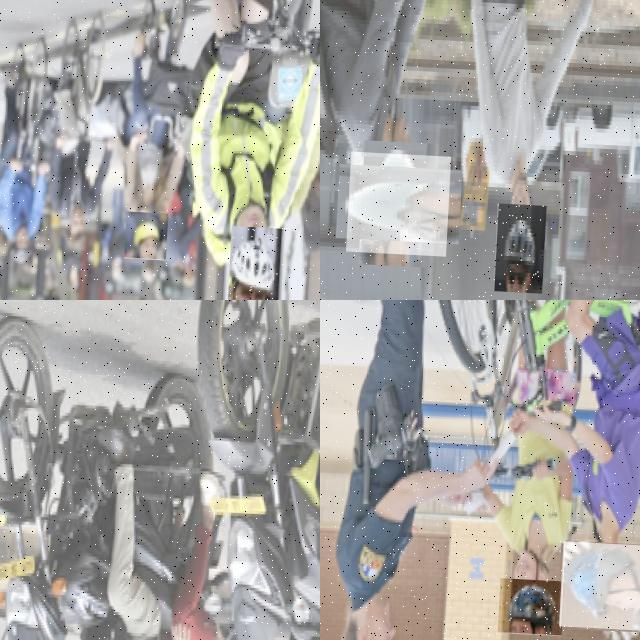helmet: (345, 150, 450, 256), (558, 540, 640, 629), (492, 202, 546, 292), (226, 224, 280, 300), (496, 577, 564, 635), (123, 210, 167, 260)
